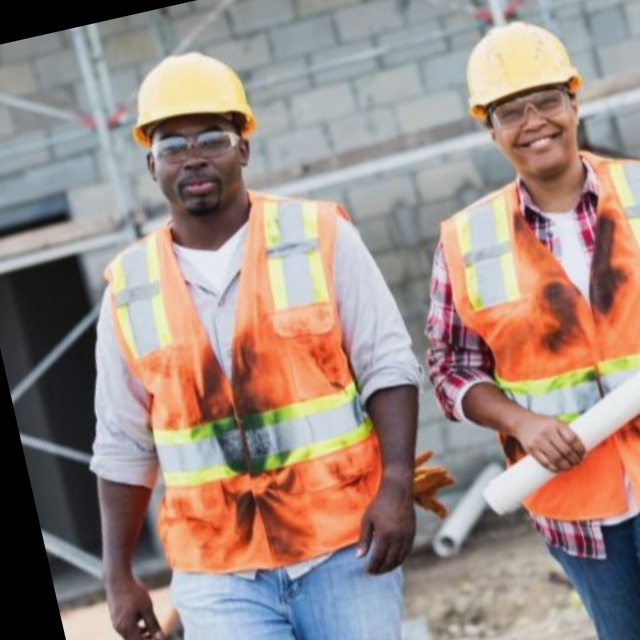Con_Casco: (115, 42, 271, 224), (453, 11, 598, 186)
Con_Chaleco: (97, 179, 410, 589), (433, 132, 640, 520)
